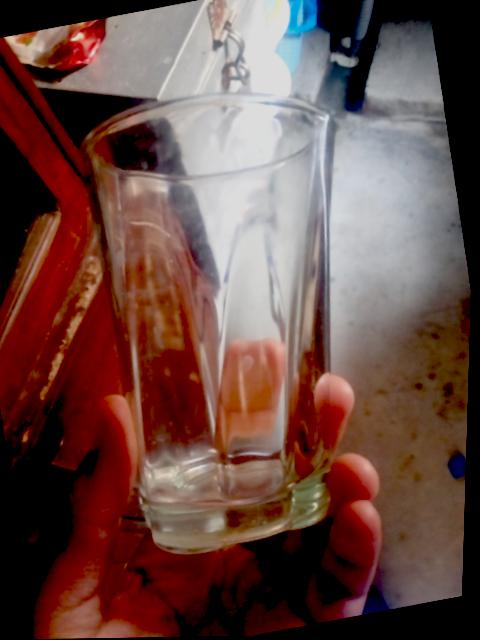Cup: (82, 94, 334, 552)
